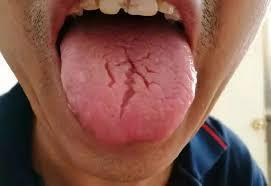liewenshe: (104, 47, 157, 117)
pangdashe: (58, 32, 197, 146)
